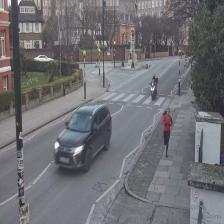person: (162, 107, 172, 157)
